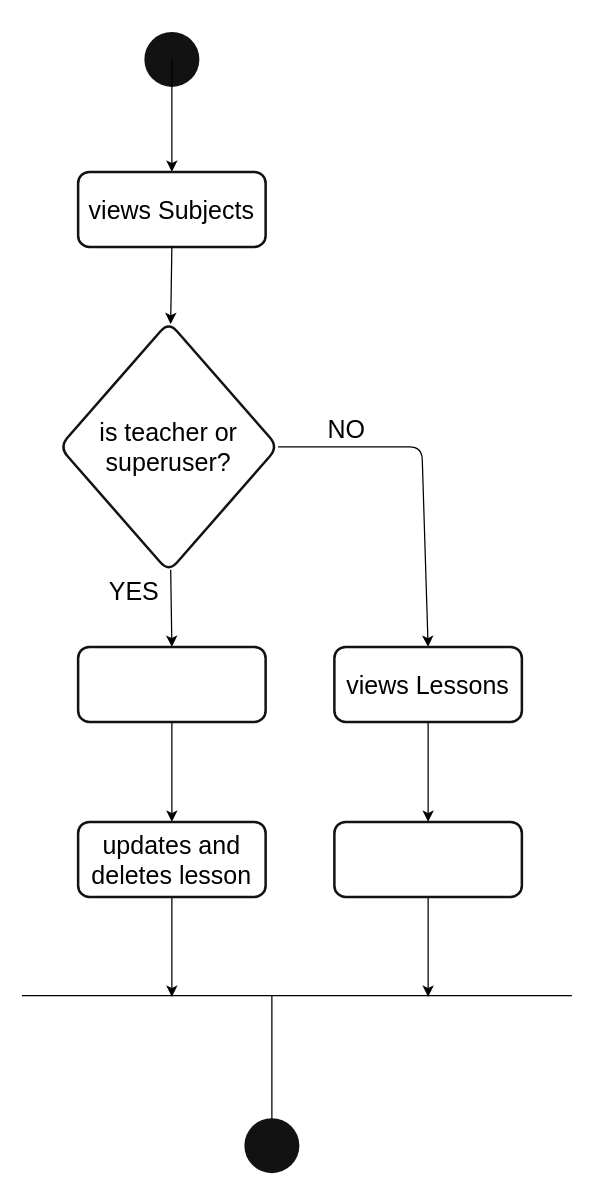
The diagram is 595 pixels wide and 1204 high, and some of its shapes have lost their labels. The shapes that lost their labels are listed below. From the top down, each one's box as (x1, y1, x2, y2) in pixels, then its label:
(76, 645, 266, 722): adds Lessons
(332, 820, 522, 898): download resources
